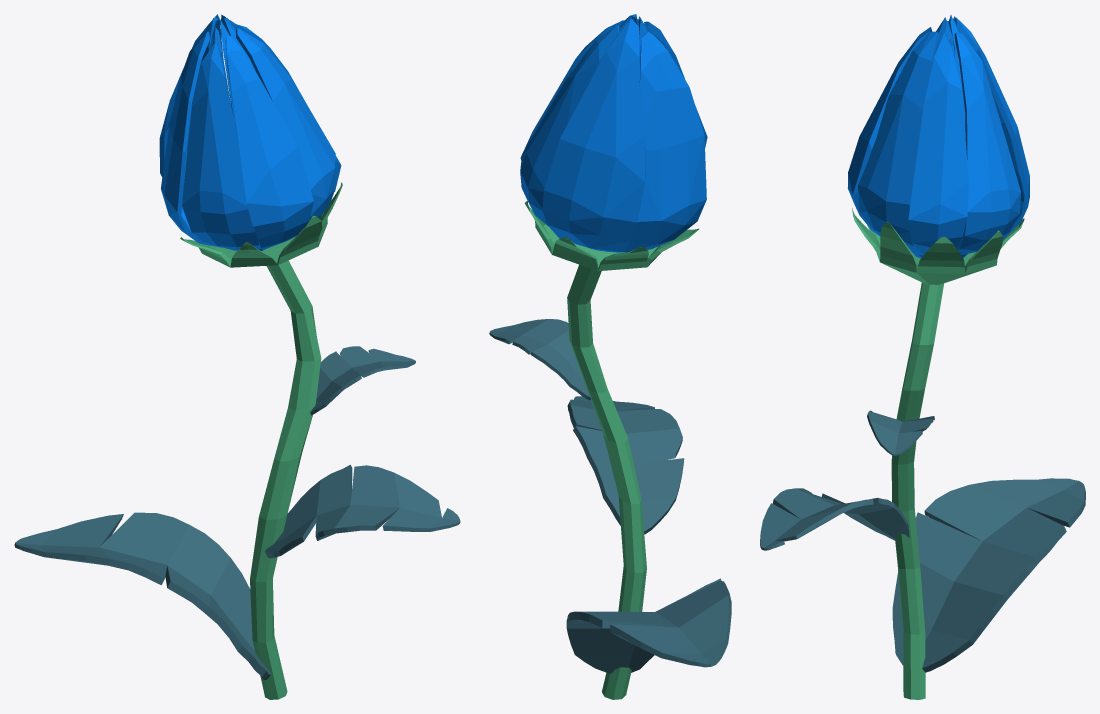
The model's file is Flower_10.fbx.
3 views of the same model, side by side, from view 1: azimuth 30°, elevation 25°; view 2: azimuth 150°, elevation 25°; view 3: azimuth 270°, elevation 25° (orthographic). The views are drawn at different scales.
Visible parts, largest first — view 1: Flower_10; view 2: Flower_10; view 3: Flower_10.
Part boxes in pixels (x1,y1,x2,y2): Flower_10: (14, 14, 460, 699); Flower_10: (489, 14, 731, 699); Flower_10: (760, 15, 1085, 699).
Bounding box in the file's own units: 35.8 × 74.96 × 33.35.
